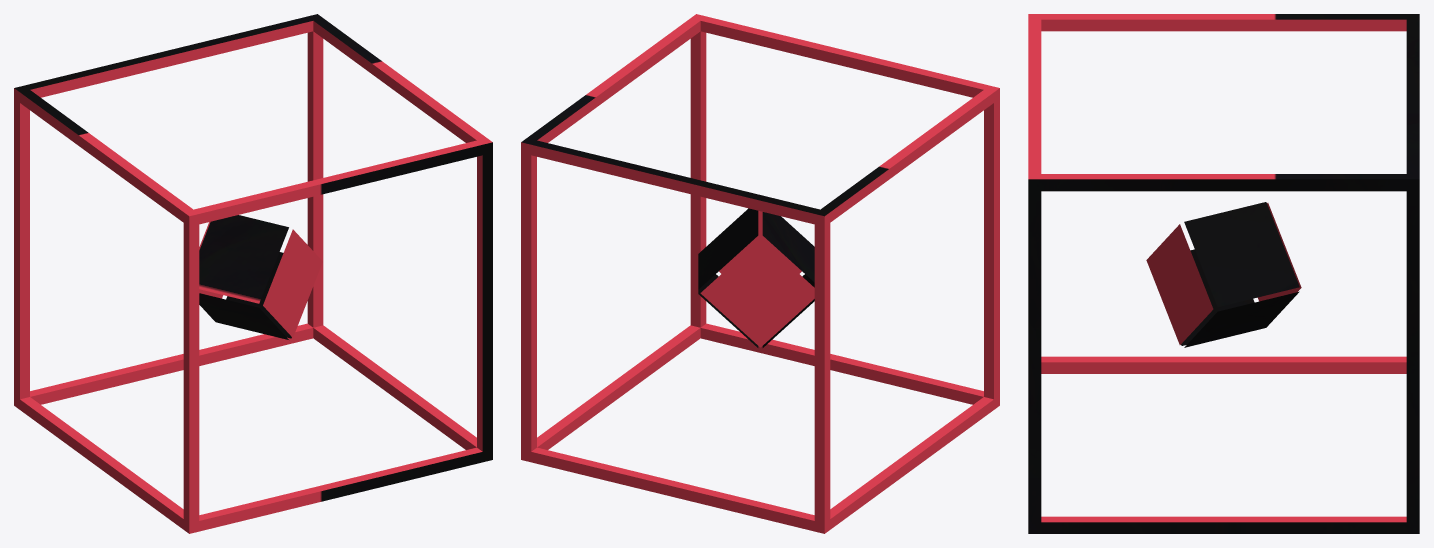
Rendered from Hollow_cube.fbx.
3 renders of one model, left to right at view 1: azimuth 30°, elevation 25°; view 2: azimuth 150°, elevation 25°; view 3: azimuth 270°, elevation 25°, orthographic. The views are drawn at different scales.
Visible parts, largest first — view 1: CUBE_8; view 2: CUBE_8; view 3: CUBE_8.
Part boxes in pixels (x1=…): CUBE_8: x1=14, y1=14, x2=492, y2=533; CUBE_8: x1=521, y1=14, x2=999, y2=533; CUBE_8: x1=1028, y1=14, x2=1419, y2=533.
Size of the model in its own units: 300 by 300 by 300.
